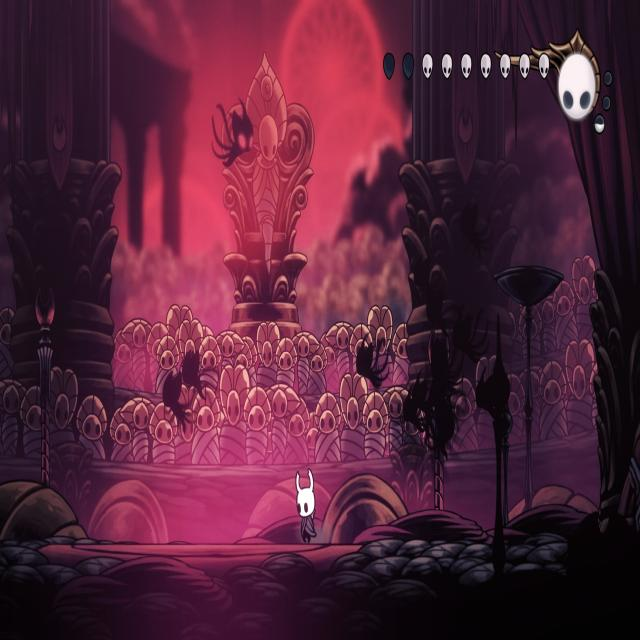Player: (293, 463, 319, 547)
Staggered_Grimm: (211, 96, 258, 176)
